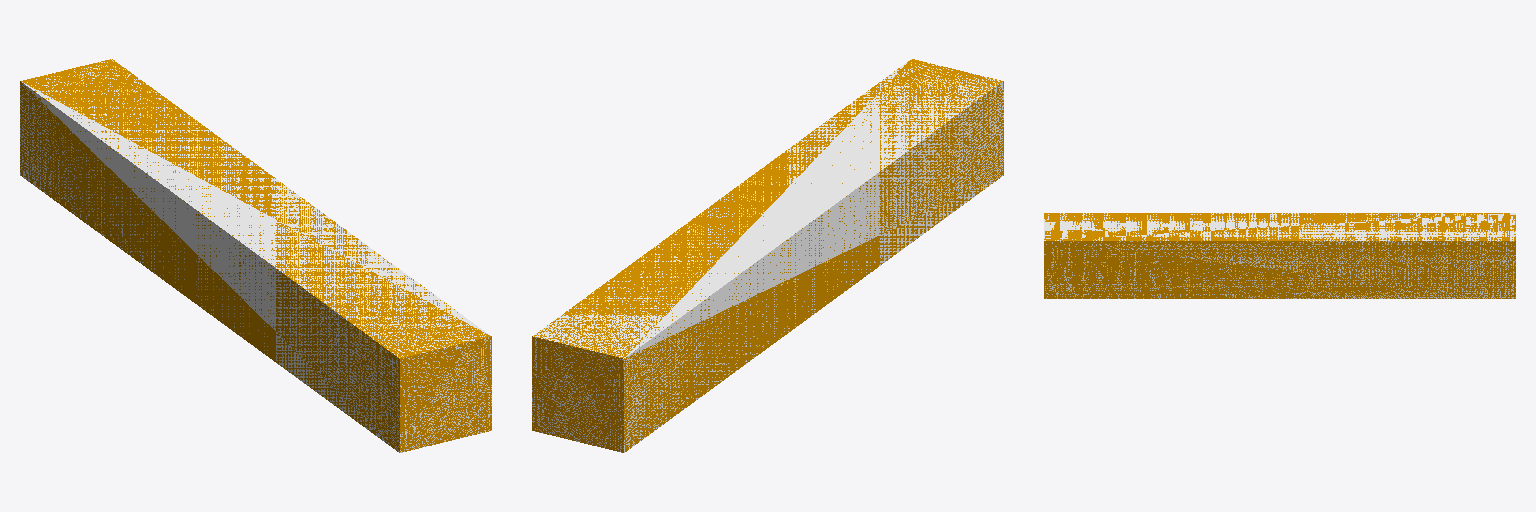
The robot description file, URDF, robot "my_object":
<?xml version="1.0" ?> 
<robot name="my_object" static="true">
  <link name="base_link">
  <inertial>
    <mass value="0.208" />
    <origin xyz="0 0 0.0" />
    <inertia ixx="1.0" ixy="0.0" ixz="0.0" iyy="1.0" iyz="0.0" izz="1.0"/>
  </inertial>
  <visual>
   <origin xyz="0 0 0.0" rpy="0 0 0" />
   <geometry>
     <mesh filename="package://cob_gazebo_objects/Media/models/plastic_wrap.dae"/>
   </geometry>
  </visual>
  <collision>
   <origin xyz="0 0 0.003" rpy="0 0 0" />
   <geometry>
     <box size="0.043 0.31 0.043" />
   </geometry>
  </collision>     
  </link>

<gazebo>
	<static>true</static>
</gazebo>
</robot>

--- Render facts (derived) ---
Views: 3 orthographic renders of the robot side by side, from view 1: azimuth 30°, elevation 25°; view 2: azimuth 150°, elevation 25°; view 3: azimuth 270°, elevation 25°.
Robot: my_object — 1 links, 0 joints (none); root link base_link; default pose: every joint at zero.
Links seen in each view (by area): view 1: base_link; view 2: base_link; view 3: base_link.
Boxes of the visible links, x1,y1,x2,y2 form: base_link: [20, 59, 491, 452]; base_link: [532, 59, 1003, 452]; base_link: [1044, 213, 1515, 298].
Bounding box of the posed robot: 0.0433 × 0.3095 × 0.0426 m (x, y, z).
1 mesh visuals loaded from 1 distinct referenced files (1 Collada DAE).